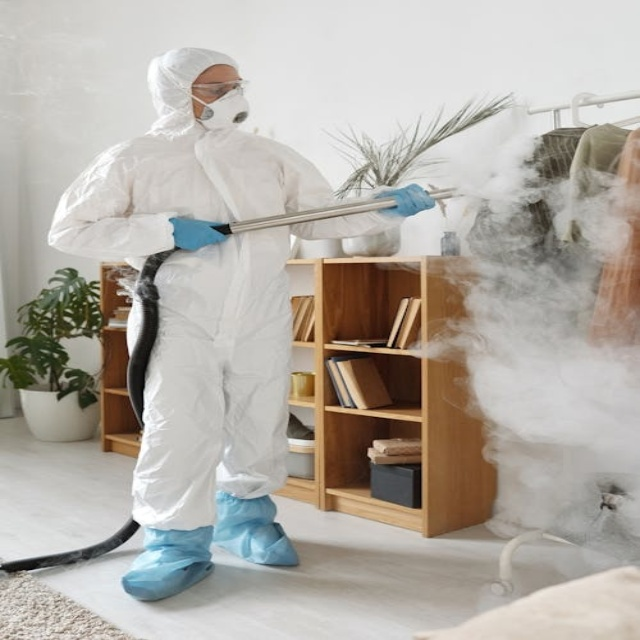Gafas: (189, 80, 247, 99)
Guantes: (373, 183, 435, 218), (169, 217, 230, 251)
Mascara: (194, 88, 250, 130)
